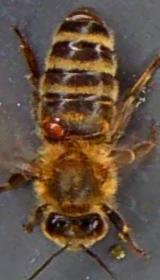varroa_mite: (44, 107, 77, 138)
